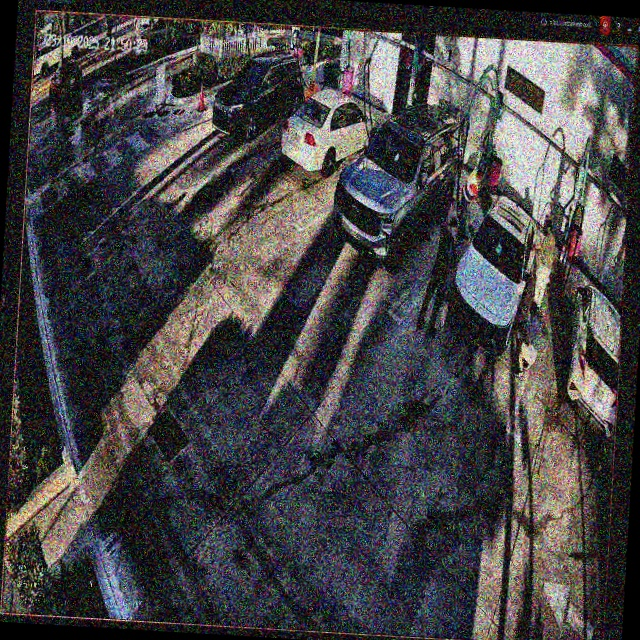Car: (331, 101, 465, 273), (445, 190, 541, 357), (281, 84, 382, 180)
